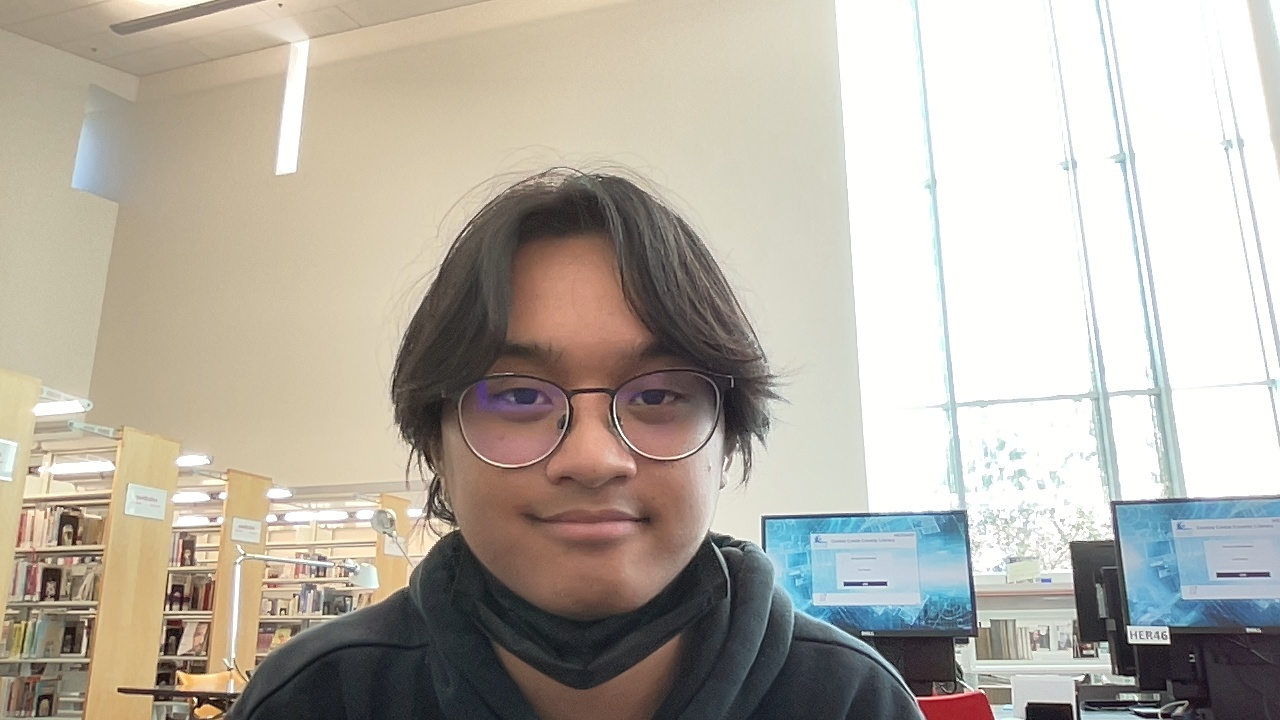happy: (423, 226, 738, 621)
